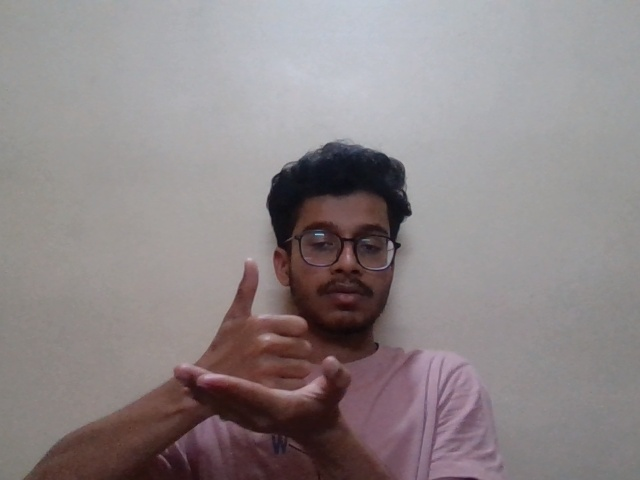help: (159, 257, 361, 437)
